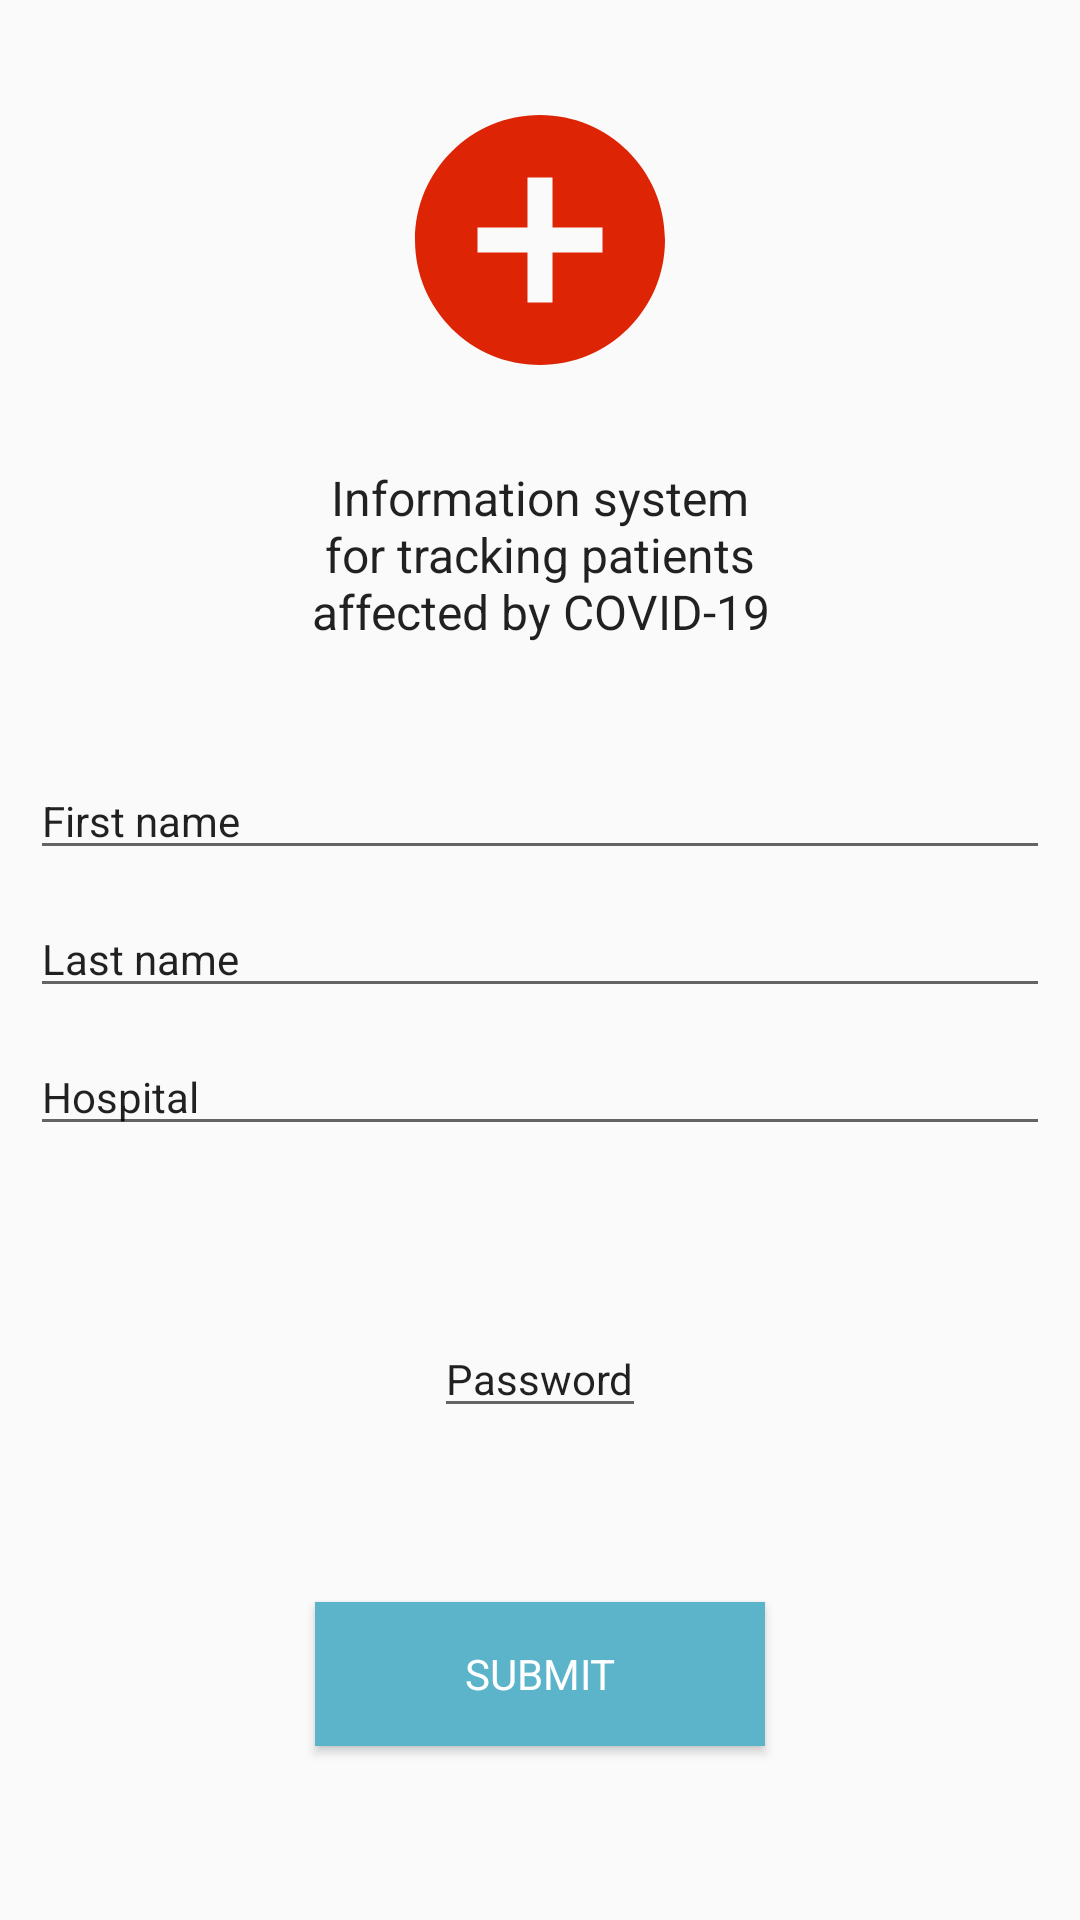

Point at icon controls on the screen. Image size 1080 x 1920, points as point (x, y).
add circle: point (540, 240)
